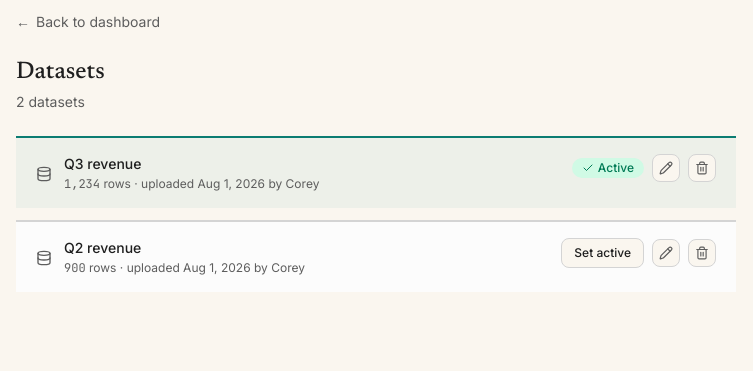
Test: Datasets rename › puts the old name back when the server rejects it
This screenshot has width=753, height=371.
Expected: the text "Q3 revenue" is shown, [64, 155, 142, 172]
Click the button named "Rename dataset" in the row of "Q3 revenue" at (666, 168), box [652, 154, 680, 182]
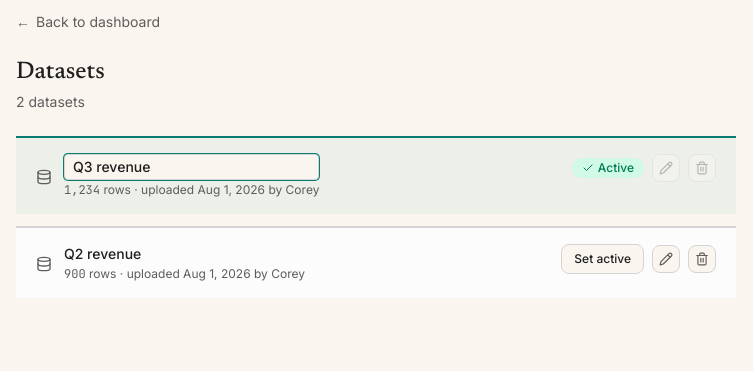
Replace the text in the field with "Something else" at (192, 167), box [64, 154, 319, 180]
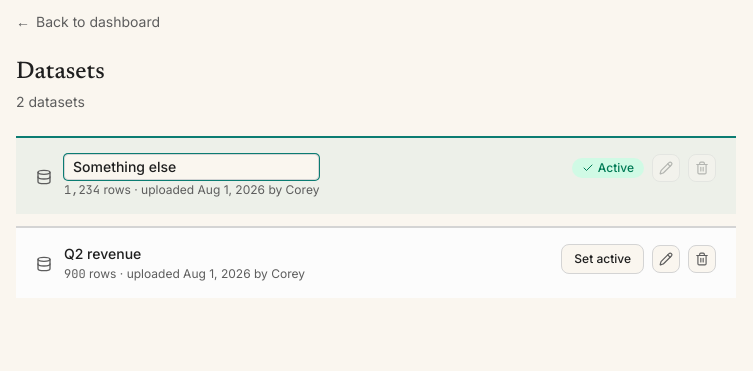
Press Enter
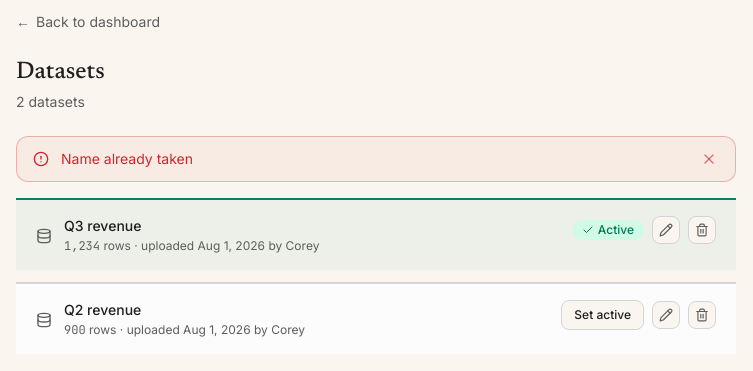
Expected: the text "Something else" is not shown
Now the text "Name already taken" is shown, box [61, 150, 193, 167]
Now the text "Q3 revenue" is shown, box [64, 217, 142, 234]
